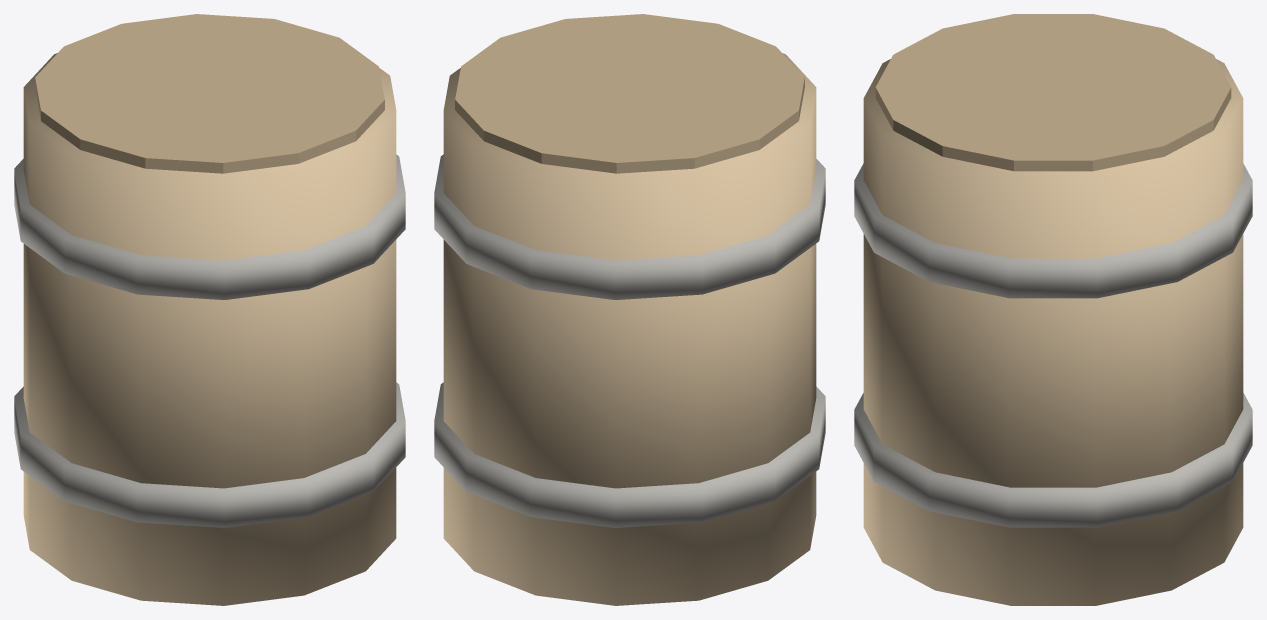
File: barrel.fbx
3 views of the same model, side by side, from view 1: azimuth 30°, elevation 25°; view 2: azimuth 150°, elevation 25°; view 3: azimuth 270°, elevation 25° (orthographic).
Parts seen in each view (by area): view 1: EN_barrel; view 2: EN_barrel; view 3: EN_barrel.
Boxes of the visible parts, box(x1,y1,x2,y2) form: EN_barrel: box(14, 14, 405, 605); EN_barrel: box(434, 14, 825, 605); EN_barrel: box(854, 14, 1252, 605).
Bounding box in the file's own units: 49.14 × 61.5 × 50.4.
